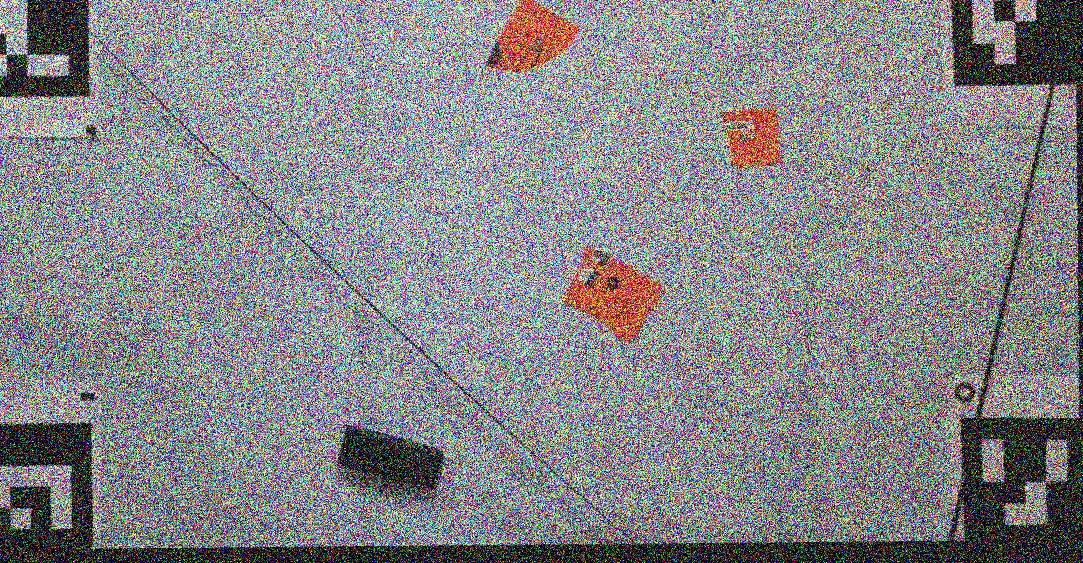obstacle: (563, 244, 664, 347), (336, 423, 445, 499), (487, 2, 580, 77), (717, 107, 786, 171)
